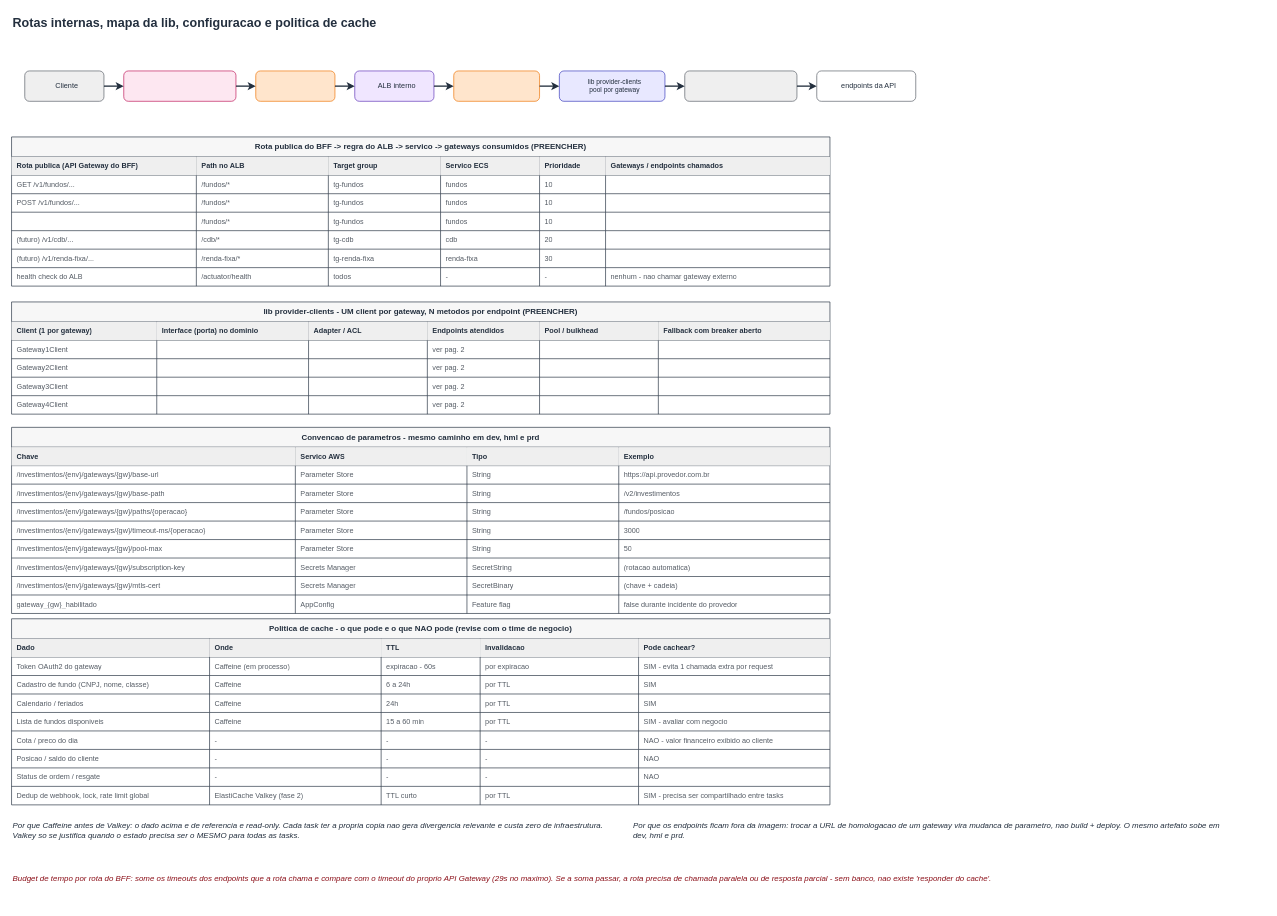
Some shapes in this 1277 by 916 pixel diagram are drawn without their labels. Here are the shapes that lost their labels. From the top down, the centre of each, then its label:
At pixel 179 85: "API Gateway do BFF".
At pixel 295 85: "BFF (ECS)".
At pixel 496 85: "ECS fundos + Caffeine".
At pixel 740 85: "GATEWAY do provedor".
